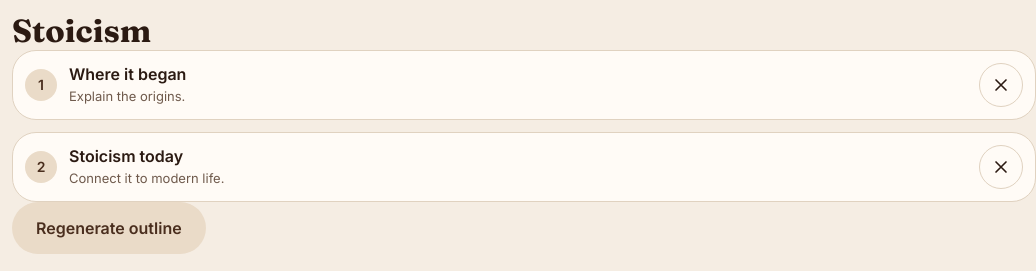
OutlineView › removing a chapter calls removeChapter and updates the list
Click the button named "Remove chapter" in the row of "Where it began". click: (1001, 85)
box: x1=979 y1=63 x2=1023 y2=107
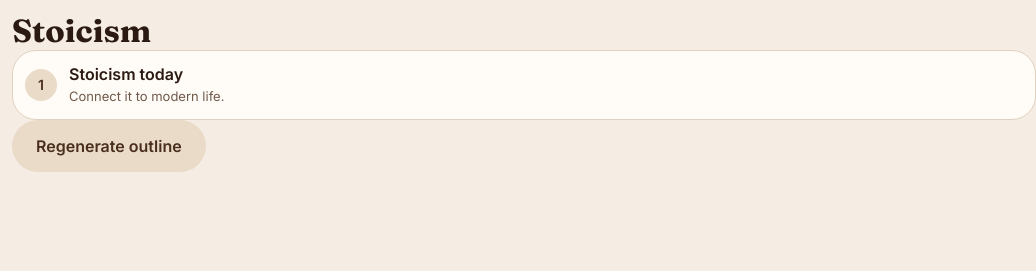
Expected: the text "Stoicism today" is shown, x1=69 y1=64 x2=183 y2=84
Now the text "Where it began" is gone
